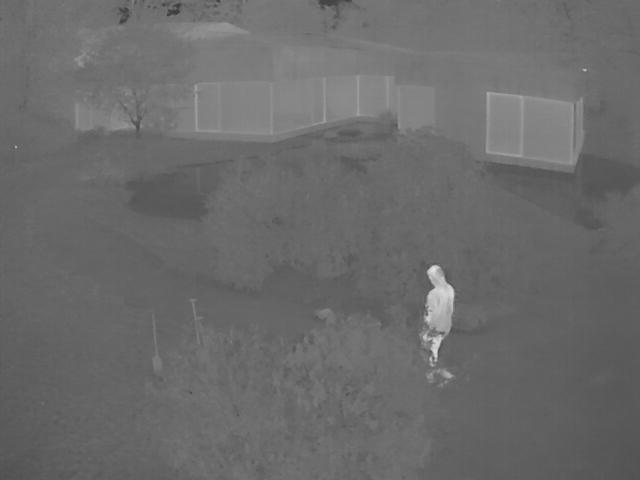person: (421, 263, 458, 390)
